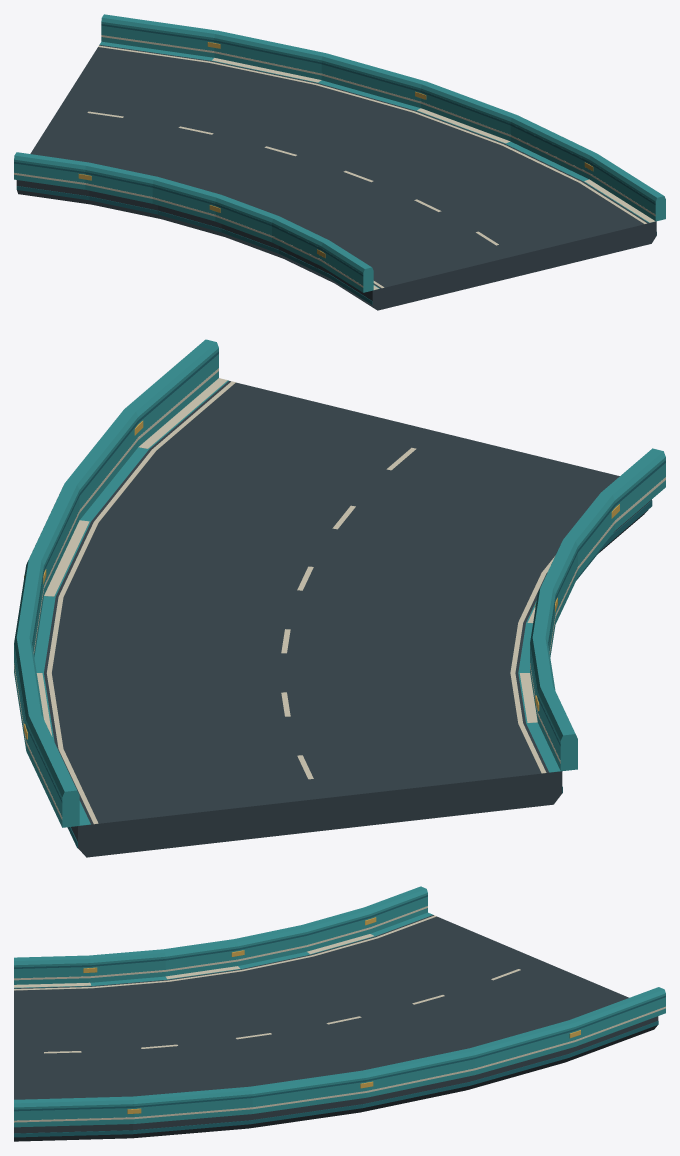
The model's file is track_curve_45_01.glb.
The picture shows the model from 3 angles, top to bottom: view 1: azimuth 30°, elevation 25°; view 2: azimuth 150°, elevation 25°; view 3: azimuth 270°, elevation 25°; orthographic projection. The views are drawn at different scales.
Visible parts, largest first — view 1: track_curve_45_01__Surface, track_curve_45_01__RailRight, track_curve_45_01__RailLeft; view 2: track_curve_45_01__Surface, track_curve_45_01__RailRight, track_curve_45_01__RailLeft; view 3: track_curve_45_01__Surface, track_curve_45_01__RailRight, track_curve_45_01__RailLeft.
Part boxes in pixels (left/top/right/bottom): track_curve_45_01__Surface: left=16, top=41, right=656, bottom=310; track_curve_45_01__RailRight: left=101, top=14, right=665, bottom=221; track_curve_45_01__RailLeft: left=14, top=152, right=373, bottom=292; track_curve_45_01__Surface: left=34, top=378, right=652, bottom=857; track_curve_45_01__RailRight: left=14, top=339, right=218, bottom=827; track_curve_45_01__RailLeft: left=530, top=448, right=665, bottom=771; track_curve_45_01__Surface: left=14, top=912, right=658, bottom=1141; track_curve_45_01__RailRight: left=14, top=987, right=665, bottom=1127; track_curve_45_01__RailLeft: left=14, top=886, right=427, bottom=984.
Size of the model in its own units: 22.1 by 2.1 by 27.9.
